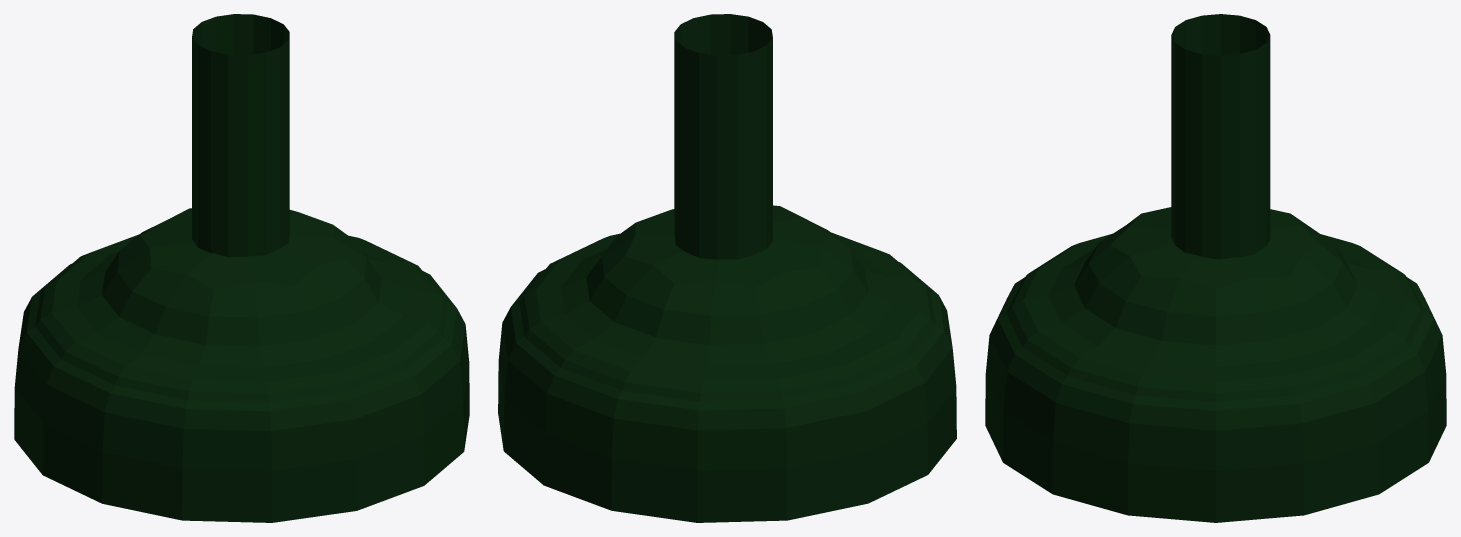
The model's file is missile_holder.fbx.
3 renders of one model, left to right at view 1: azimuth 30°, elevation 25°; view 2: azimuth 150°, elevation 25°; view 3: azimuth 270°, elevation 25°, orthographic.
Visible parts, largest first — view 1: Missile Holder; view 2: Missile Holder; view 3: Missile Holder.
Boxes of the visible parts, x1,y1,x2,y2 form: Missile Holder: (14,14,469,522); Missile Holder: (498,14,956,522); Missile Holder: (985,14,1446,522).
Bounding box in the file's own units: 180 × 169 × 180.
